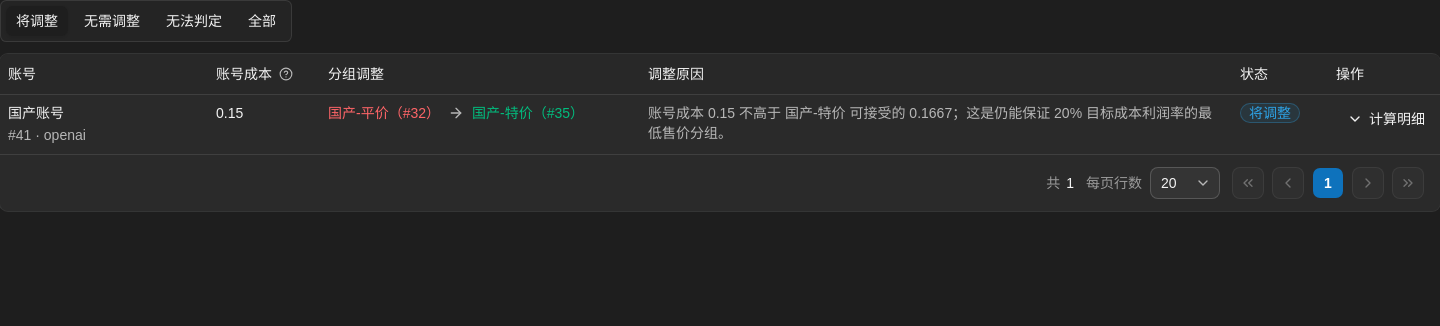
展开复合分组计算明细时展示成本计算而非平台不匹配
Click the button "计算明细" at (1386, 118), box [1336,102,1436,134]
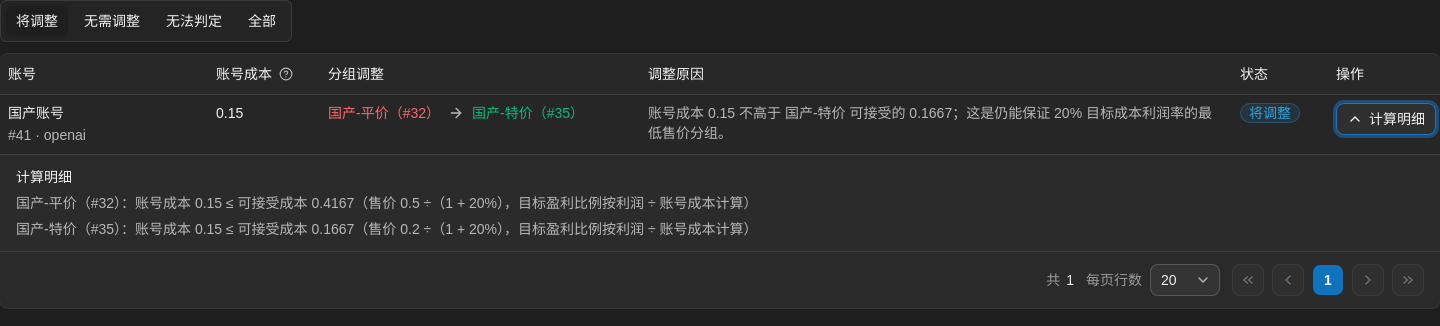
Now the text "国产-特价（#35）：账号成本 0.15" is shown, box [16,220,758,236]
